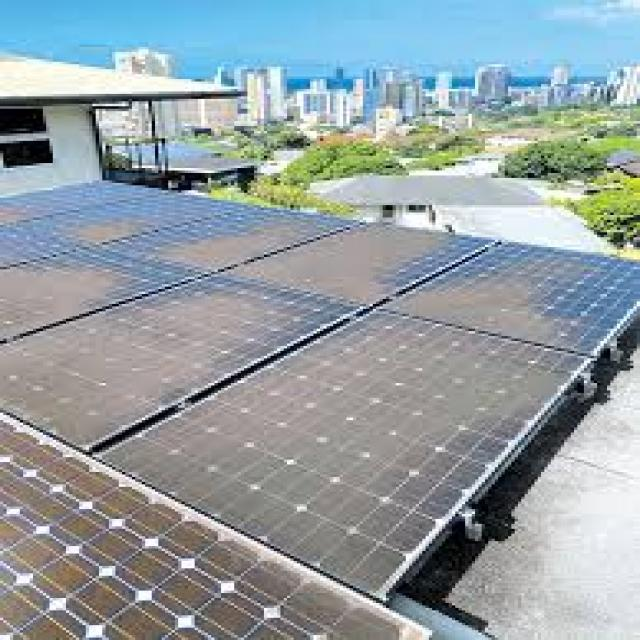faulty: (96, 308, 594, 597), (0, 412, 436, 640), (0, 274, 365, 449), (382, 239, 640, 357), (229, 220, 498, 304), (0, 177, 251, 267), (108, 206, 368, 270)
